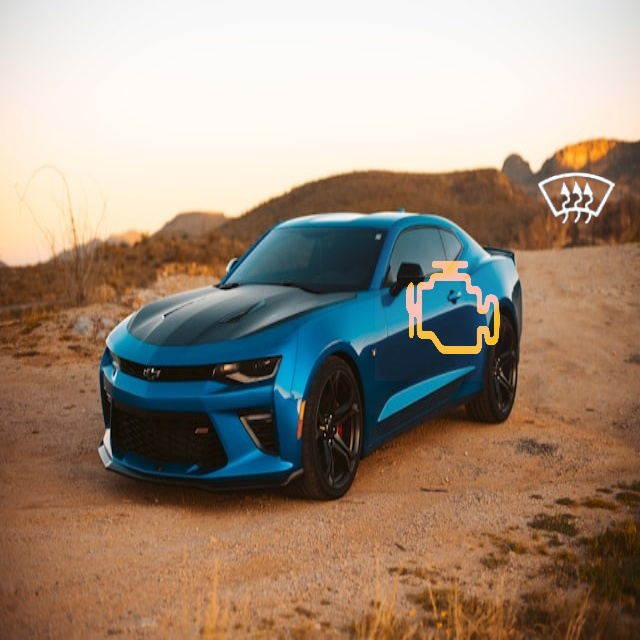symbol: (375, 226, 530, 381), (515, 137, 640, 262)
